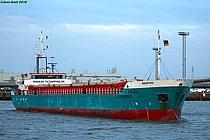Ship: (9, 25, 200, 126)
